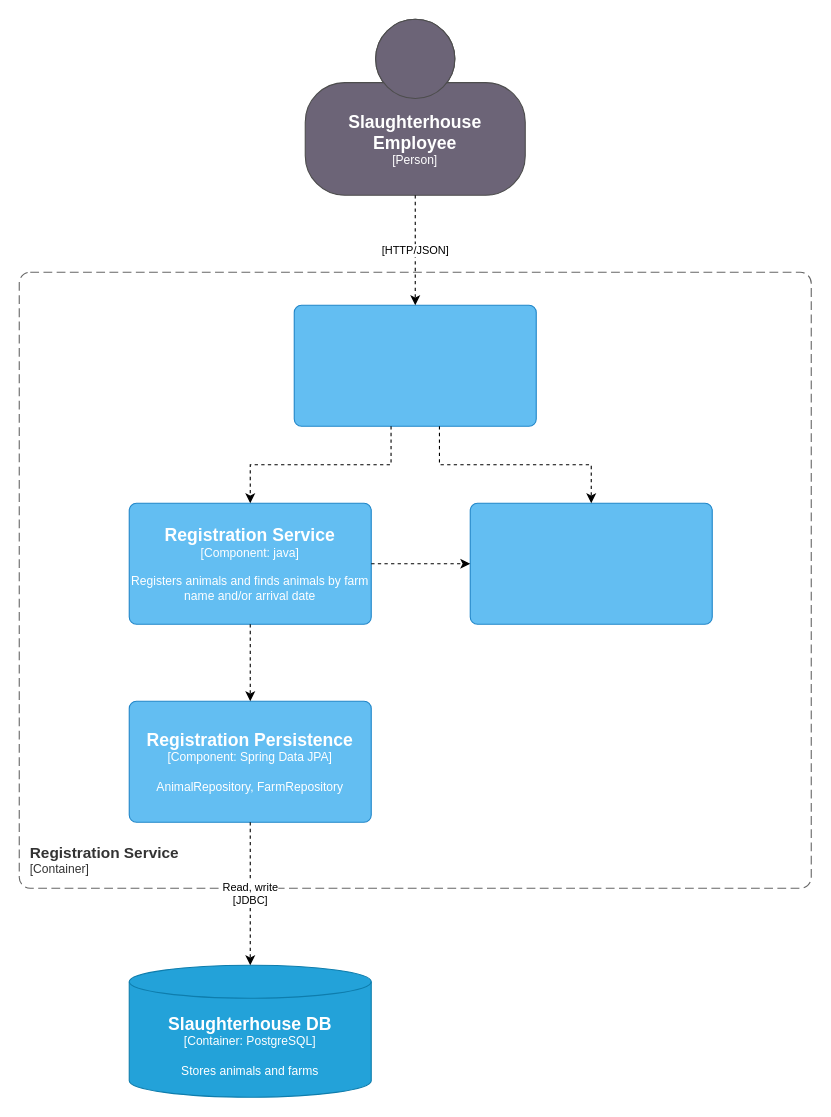
The diagram is 831 pixels wide and 1117 high, and some of its shapes have lost their labels. The centre of each missing label's shape, as x and y in pixels:
DTOs [Component: java records] RegisterRequest, AnimalDto: (590,563)
RegistrationController [Component: REST] REST controller (/animals): (414,365)
